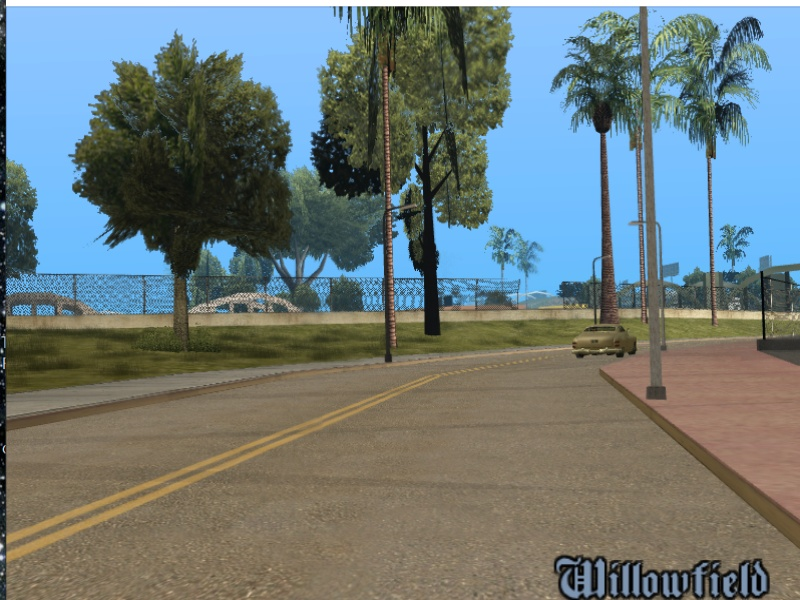pole: (637, 11, 674, 408), (375, 211, 402, 369)
vehicle: (571, 320, 637, 362)
